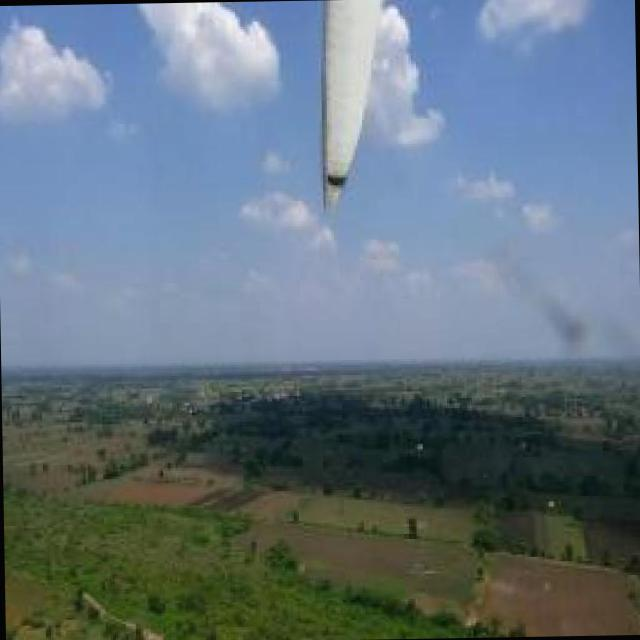Oil LEAKAGE: (326, 172, 351, 190)
